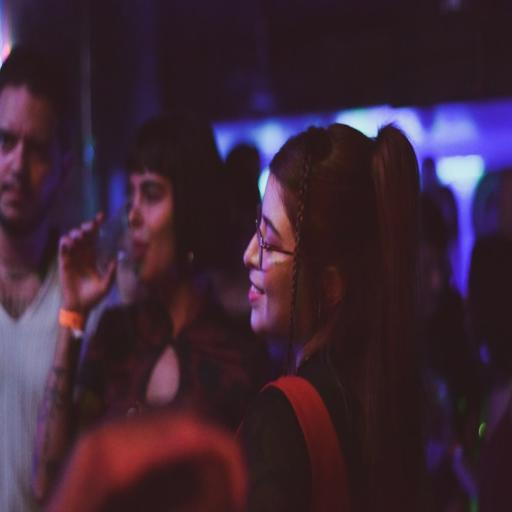face: (243, 177, 299, 344), (0, 91, 46, 223), (125, 176, 173, 277)
